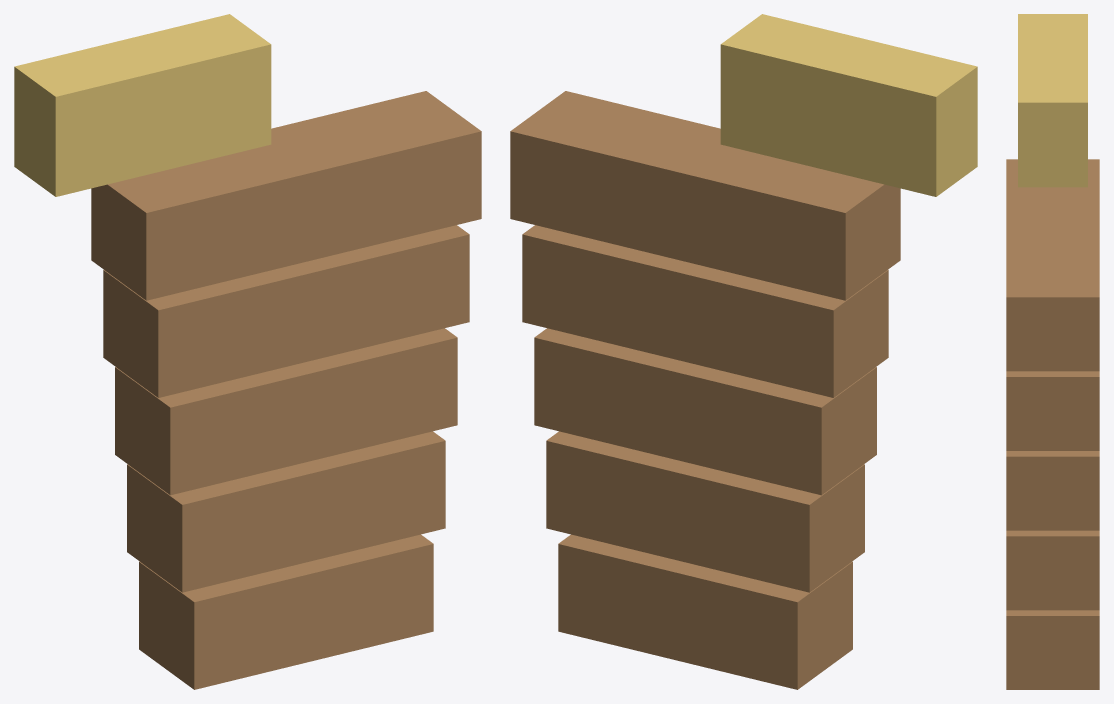
The model's file is chicote_cinto.glb.
3 renders of one model, left to right at view 1: azimuth 30°, elevation 25°; view 2: azimuth 150°, elevation 25°; view 3: azimuth 270°, elevation 25°, orthographic. The views are drawn at different scales.
Visible parts, largest first — view 1: chicote_cinto; view 2: chicote_cinto; view 3: chicote_cinto.
Part boxes in pixels (box(x1,y1,x2,y2)): chicote_cinto: box(14, 14, 481, 689); chicote_cinto: box(510, 14, 977, 689); chicote_cinto: box(1006, 14, 1099, 689).
Size of the model in its own units: 0.175 by 0.2475 by 0.04.
